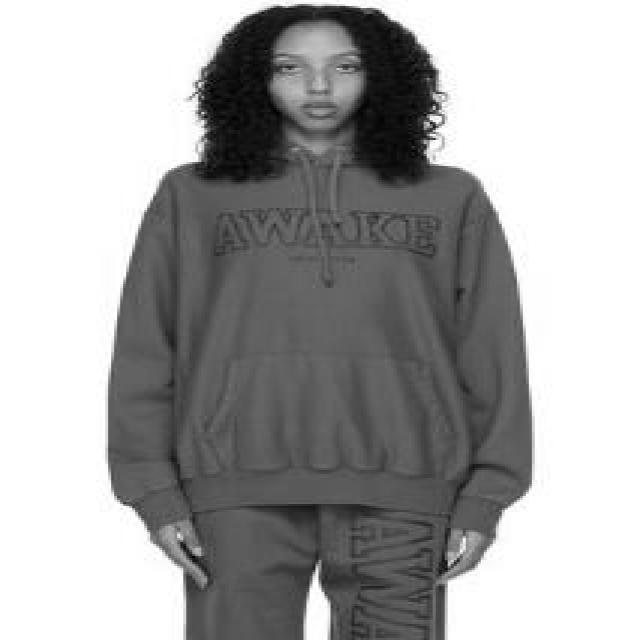Focused: (262, 24, 374, 135)
